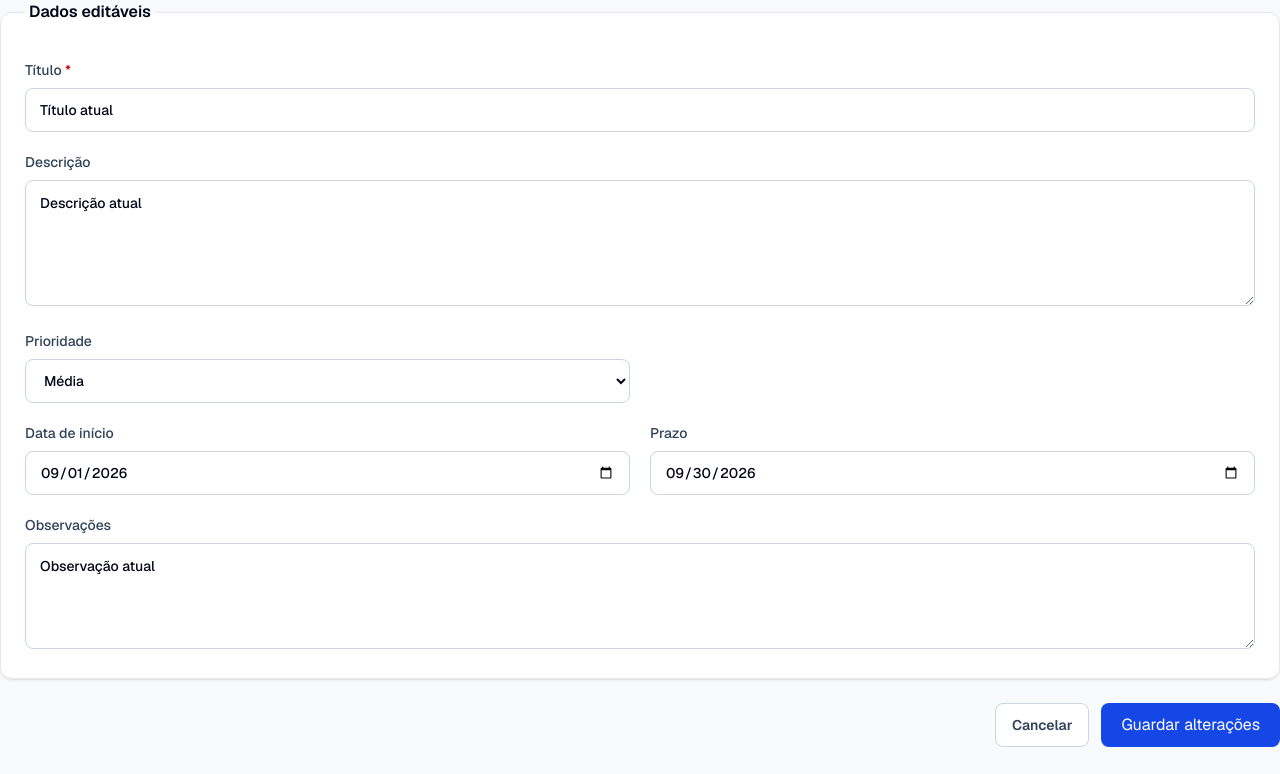
Demand edit › maps field and global errors without losing input
The width and height of the screenshot is (1280, 774).
Click the button "Guardar alterações": (1191, 725) [1101, 703, 1279, 747]
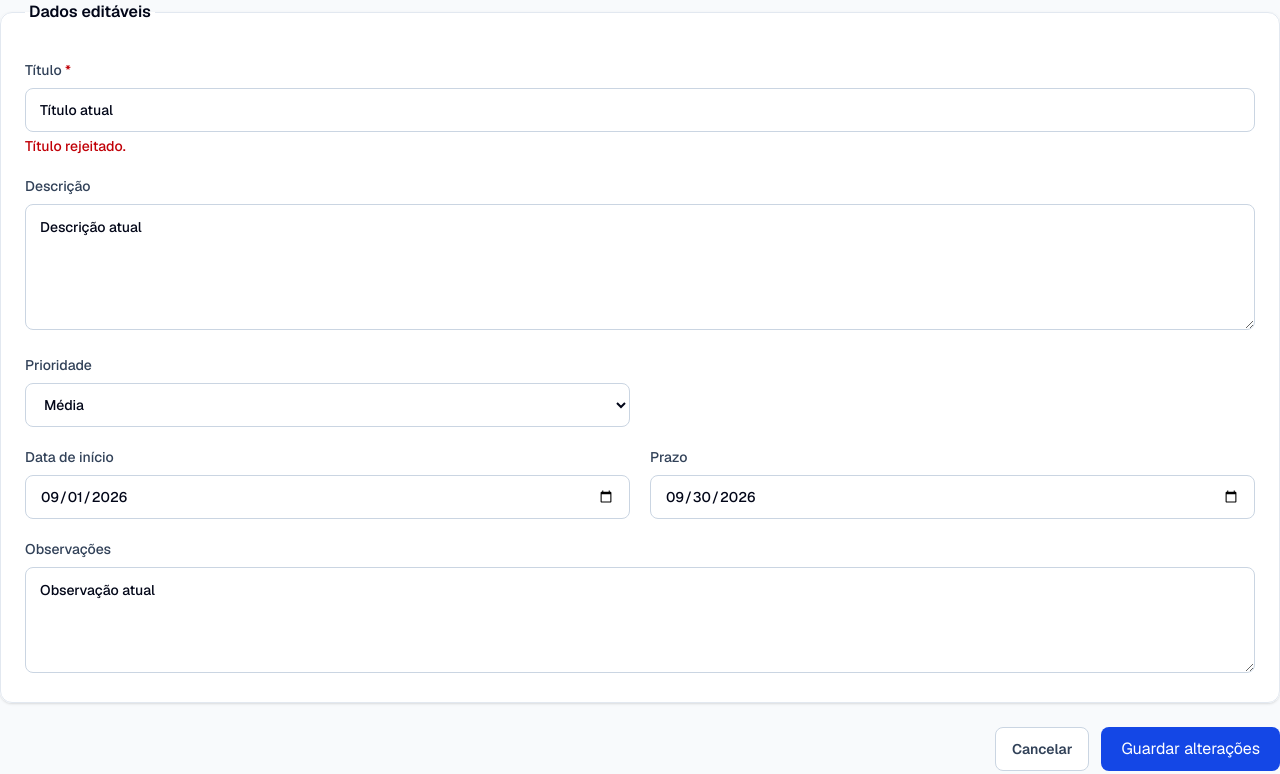
Expected: the text "Título rejeitado." is shown, [25, 137, 126, 155]
Replace the text in the field labelled "Título * Título rejeitado." with "Preservado": (640, 110) [25, 88, 1255, 132]
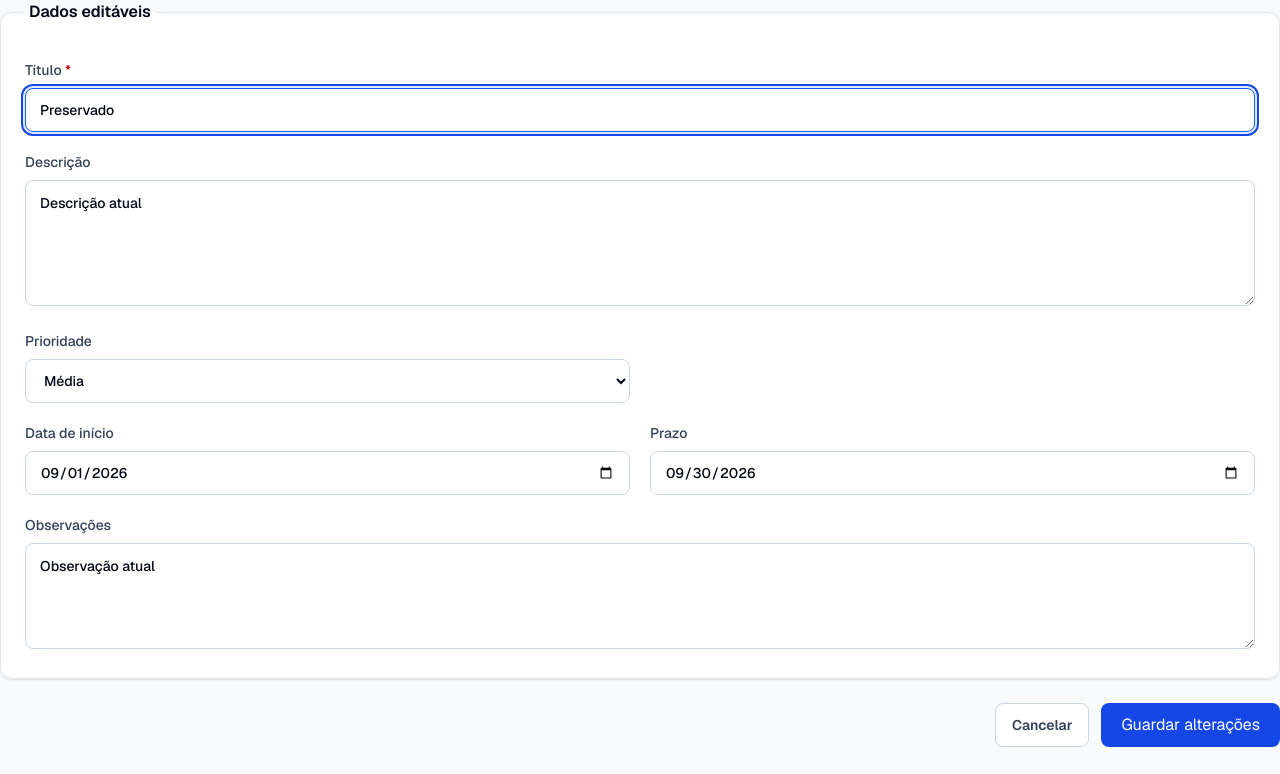
Click the button "Guardar alterações": (1191, 725) [1101, 703, 1279, 747]
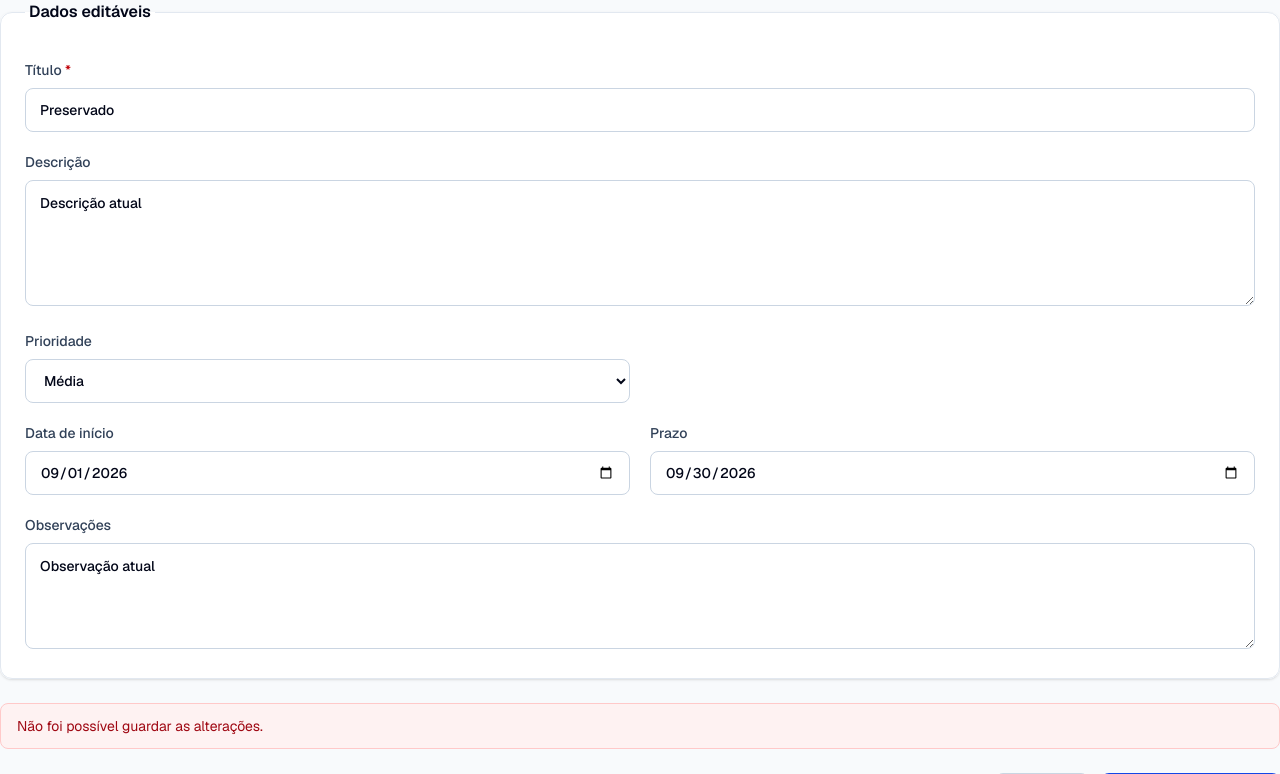
Expected: the message reads "Não foi possível guardar as alterações.", [17, 717, 263, 735]
